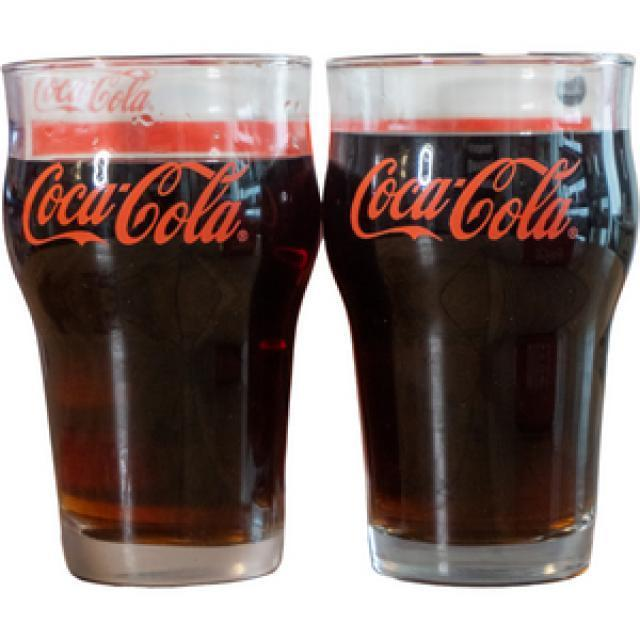glass: (2, 58, 323, 582), (327, 53, 635, 587)
